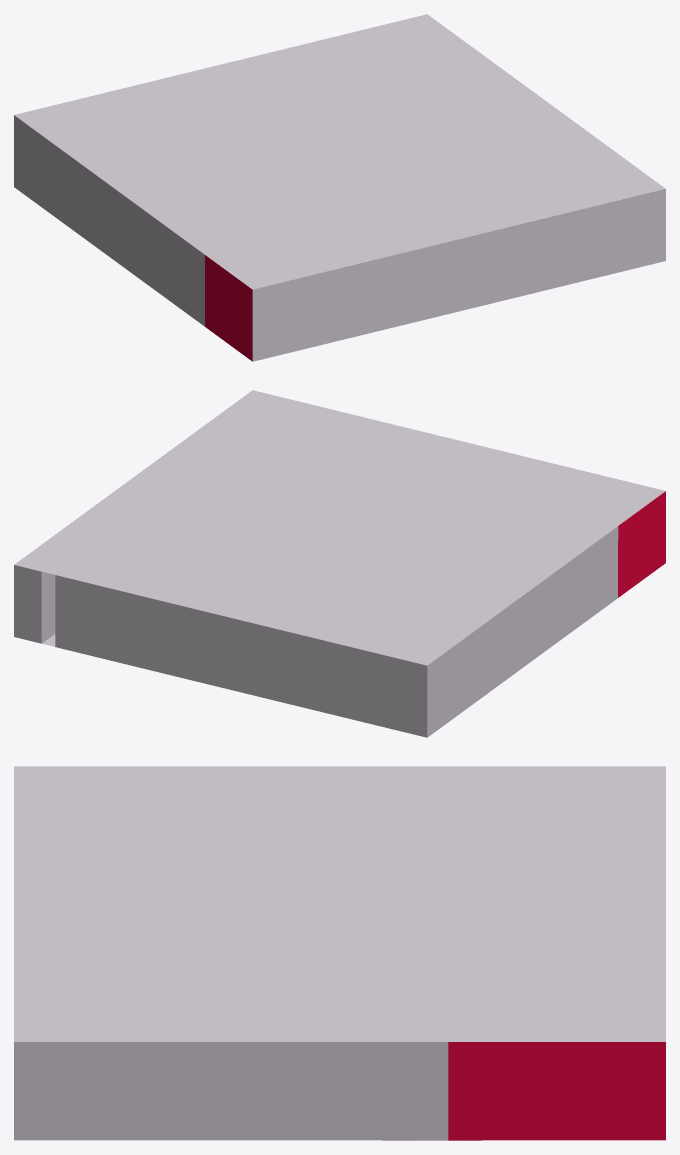
The model's file is Hard Room 1.fbx.
The picture shows the model from 3 angles, top to bottom: view 1: azimuth 30°, elevation 25°; view 2: azimuth 150°, elevation 25°; view 3: azimuth 270°, elevation 25°; orthographic projection. The views are drawn at different scales.
Visible parts, largest first — view 1: Plane; view 2: Plane; view 3: Plane.
Part boxes in pixels (x1,y1,x2,y2): Plane: [14, 14, 665, 361]; Plane: [14, 390, 665, 737]; Plane: [14, 766, 665, 1140].
Bounding box in the file's own units: 3001 × 501 × 3002.
